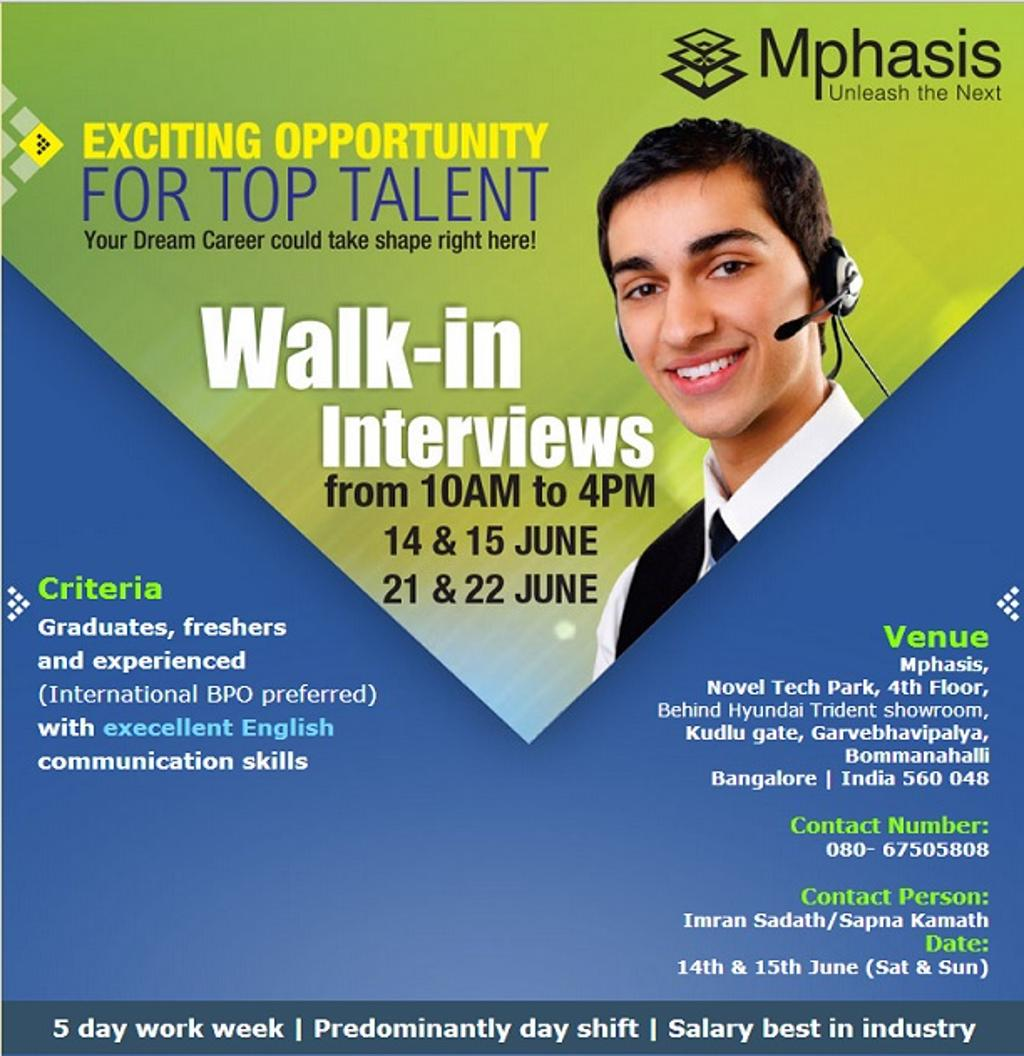face: (610, 167, 812, 433)
